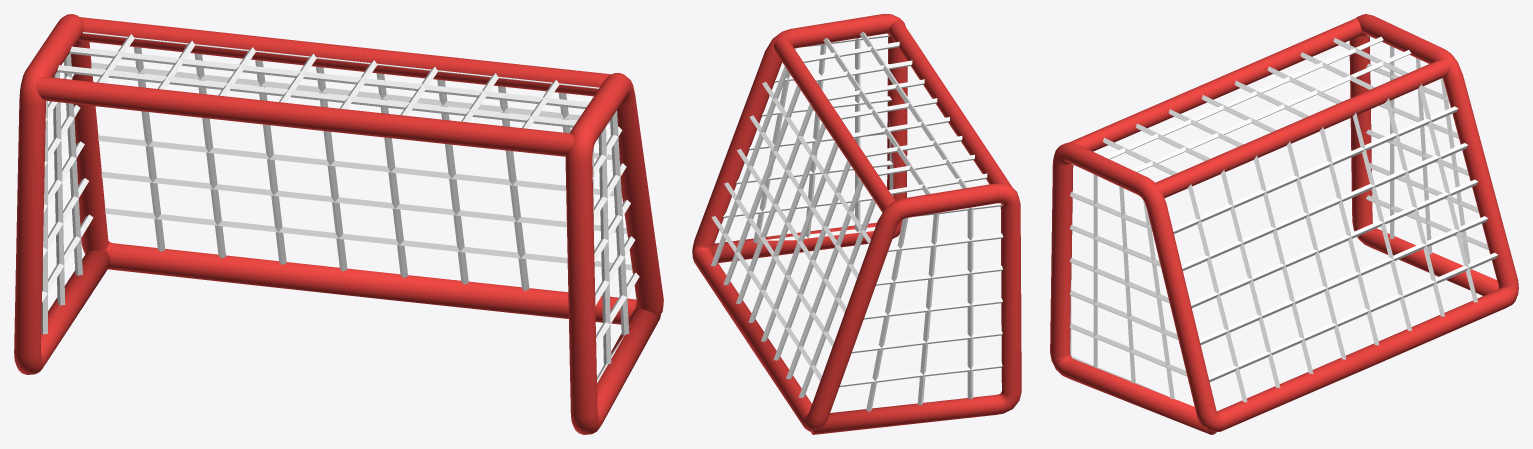
File: goal_net.gltf
The picture shows the model from 3 angles, left to right: view 1: azimuth 30°, elevation 25°; view 2: azimuth 150°, elevation 25°; view 3: azimuth 270°, elevation 25°; orthographic projection. The views are drawn at different scales.
Visible parts, largest first — view 1: Plane.306; view 2: Plane.306; view 3: Plane.306.
Boxes of the visible parts, x1,y1,x2,y2 form: Plane.306: (14,14,663,434); Plane.306: (692,14,1021,434); Plane.306: (1050,14,1518,434).
Size of the model in its own units: 2.19 by 1.19 by 2.17.
Materials: 1 (1 with a texture image).
